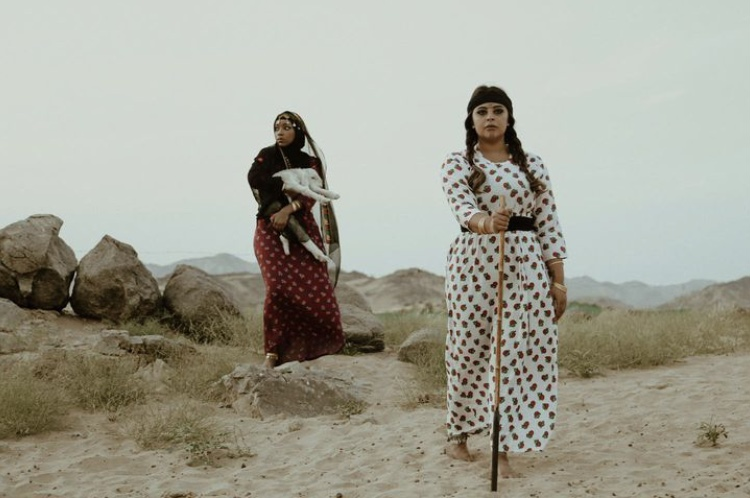Saudi_Founding_Day: (438, 82, 570, 495), (244, 108, 351, 377)
